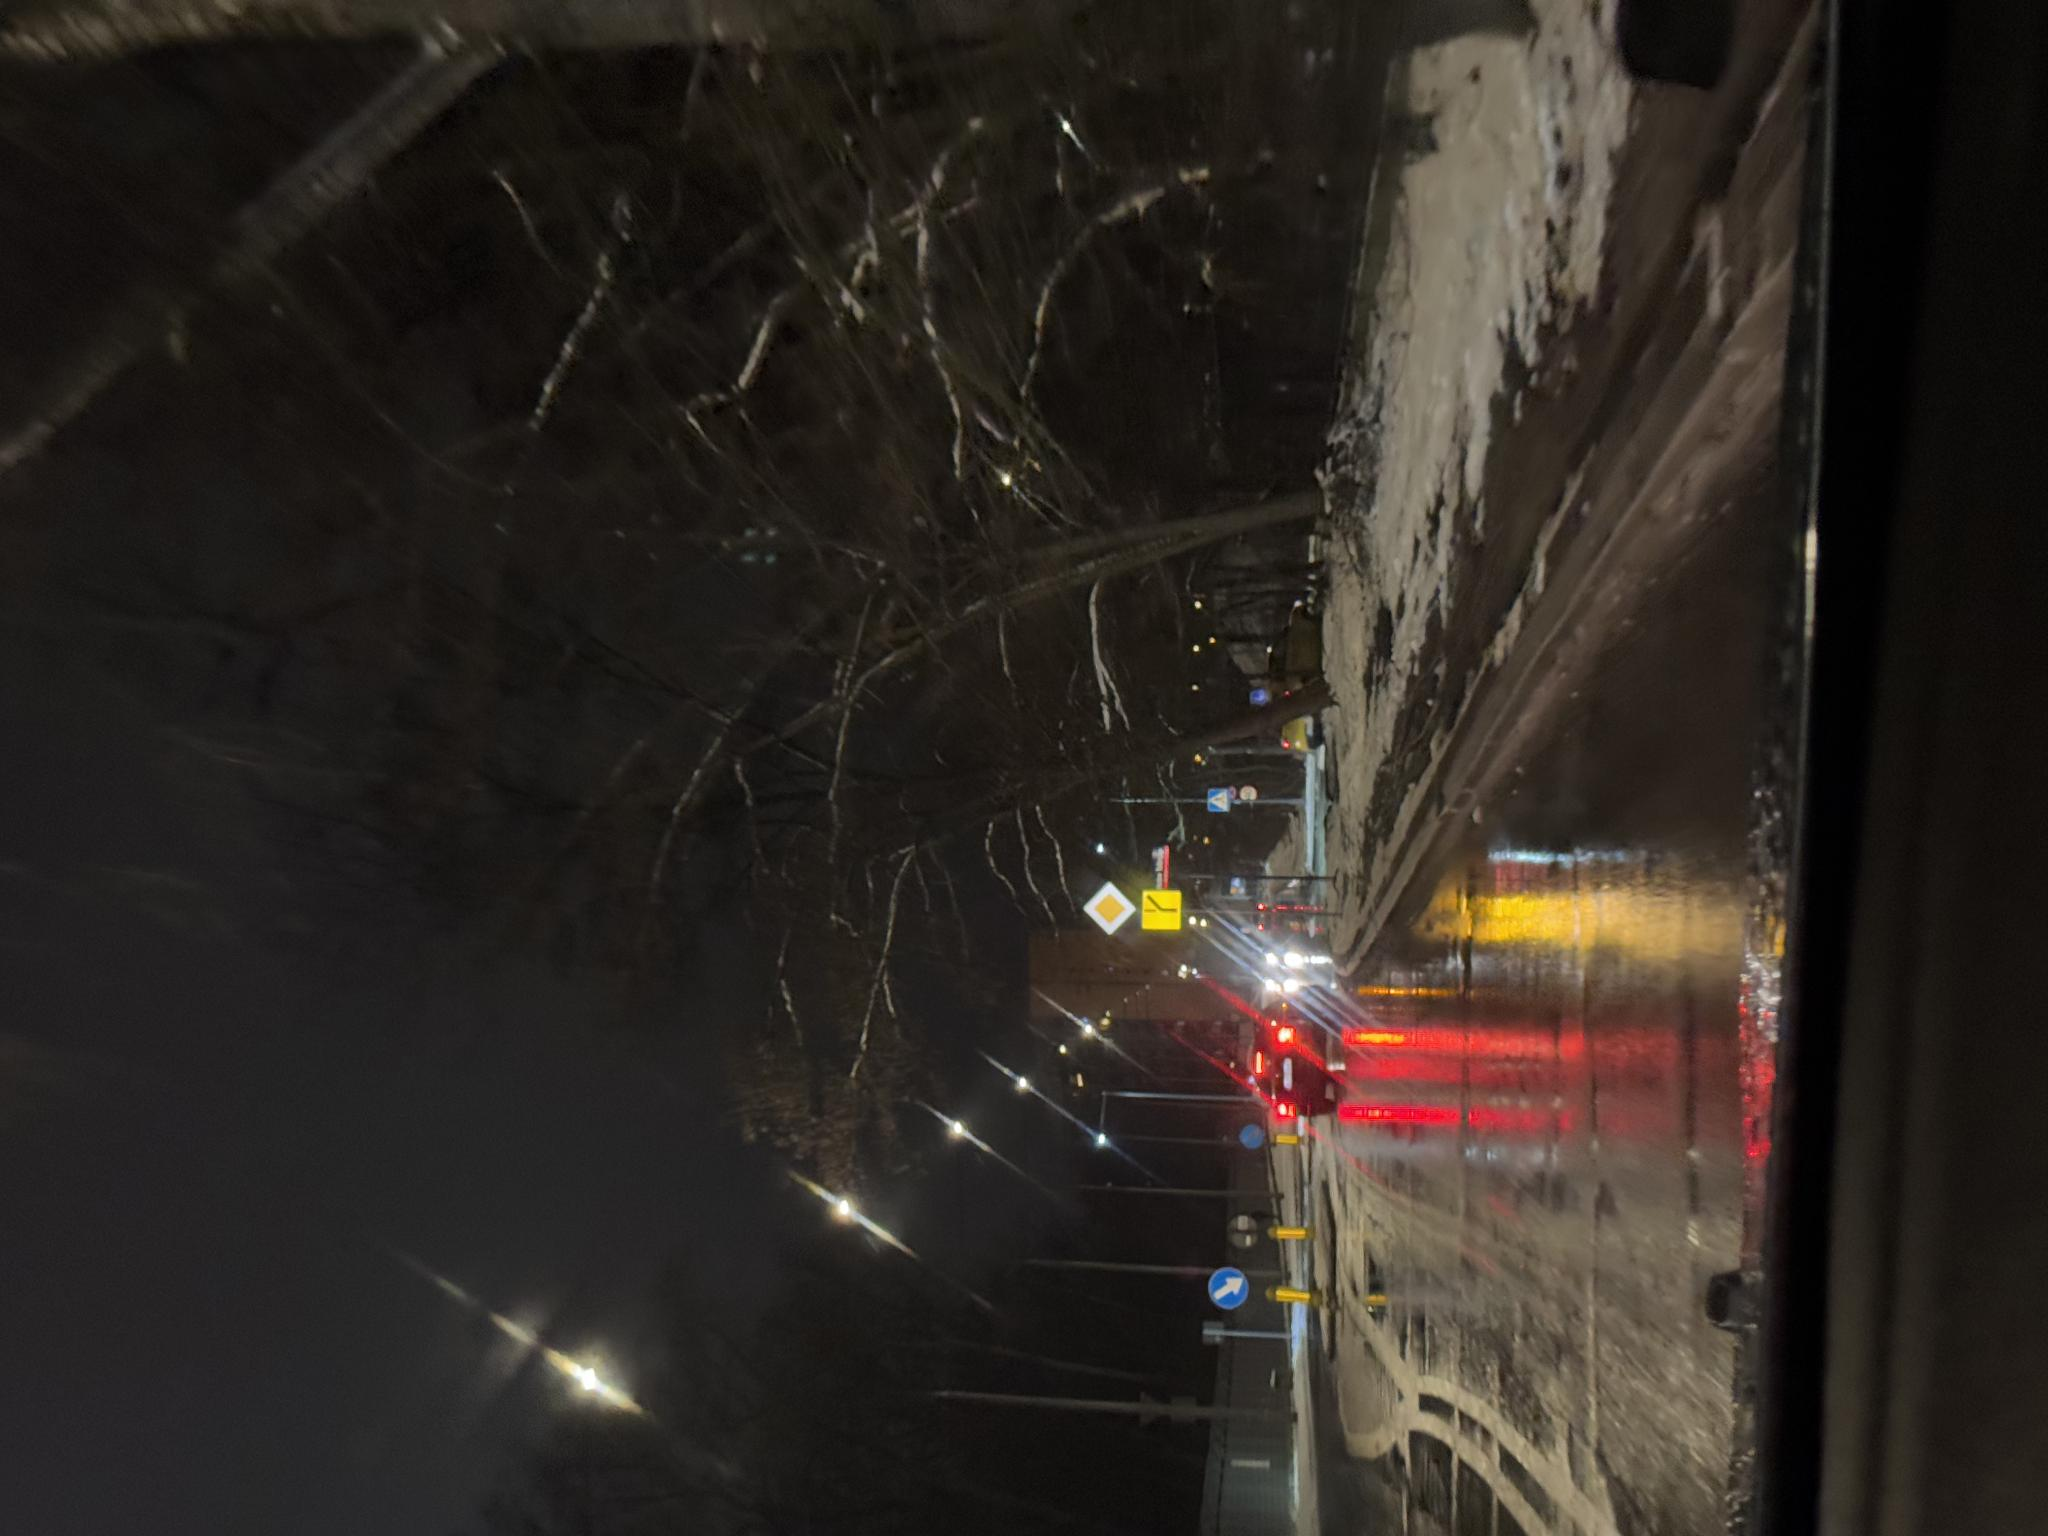information: (600, 1084, 655, 1136), (724, 1208, 748, 1229)
mandatory: (227, 1208, 269, 1250), (387, 1241, 411, 1263)
other: (605, 1141, 647, 1183)
prohibitory: (737, 1239, 751, 1257), (737, 1231, 751, 1238)
